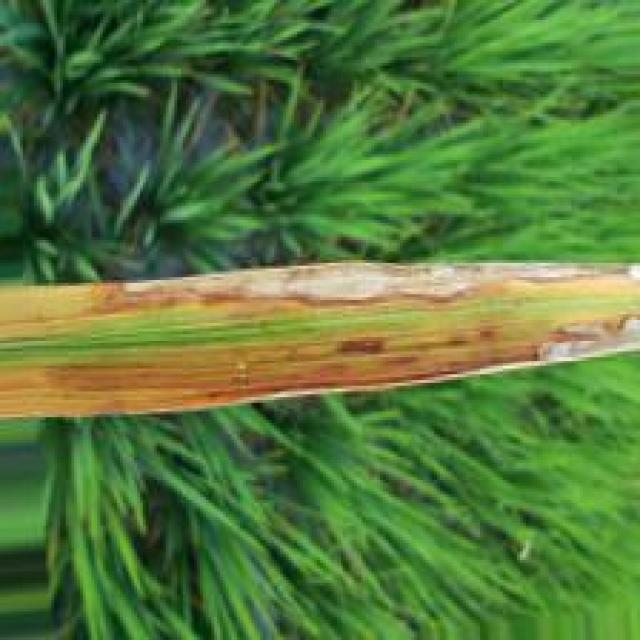Bacterial_Leaf_Blight: (0, 263, 640, 417)
